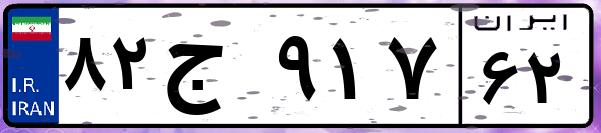1: (330, 28, 385, 110)
2: (525, 38, 570, 115), (110, 28, 158, 98)
6: (475, 38, 525, 113)
7: (385, 28, 445, 110)
8: (57, 26, 110, 100)
9: (270, 28, 330, 110)
ج: (158, 20, 270, 120)
